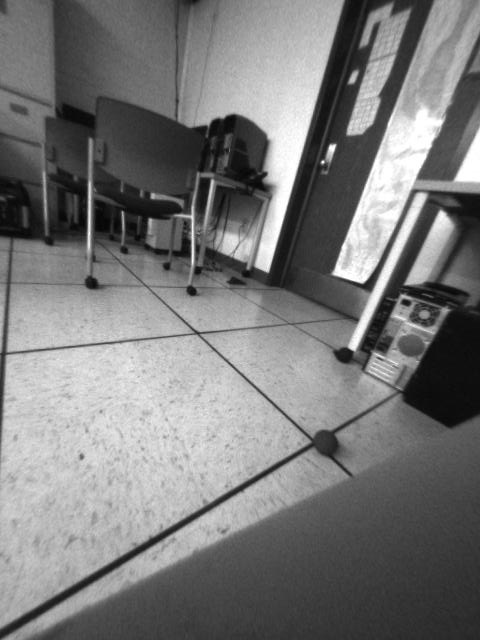dogtoy: (303, 422, 348, 463)
